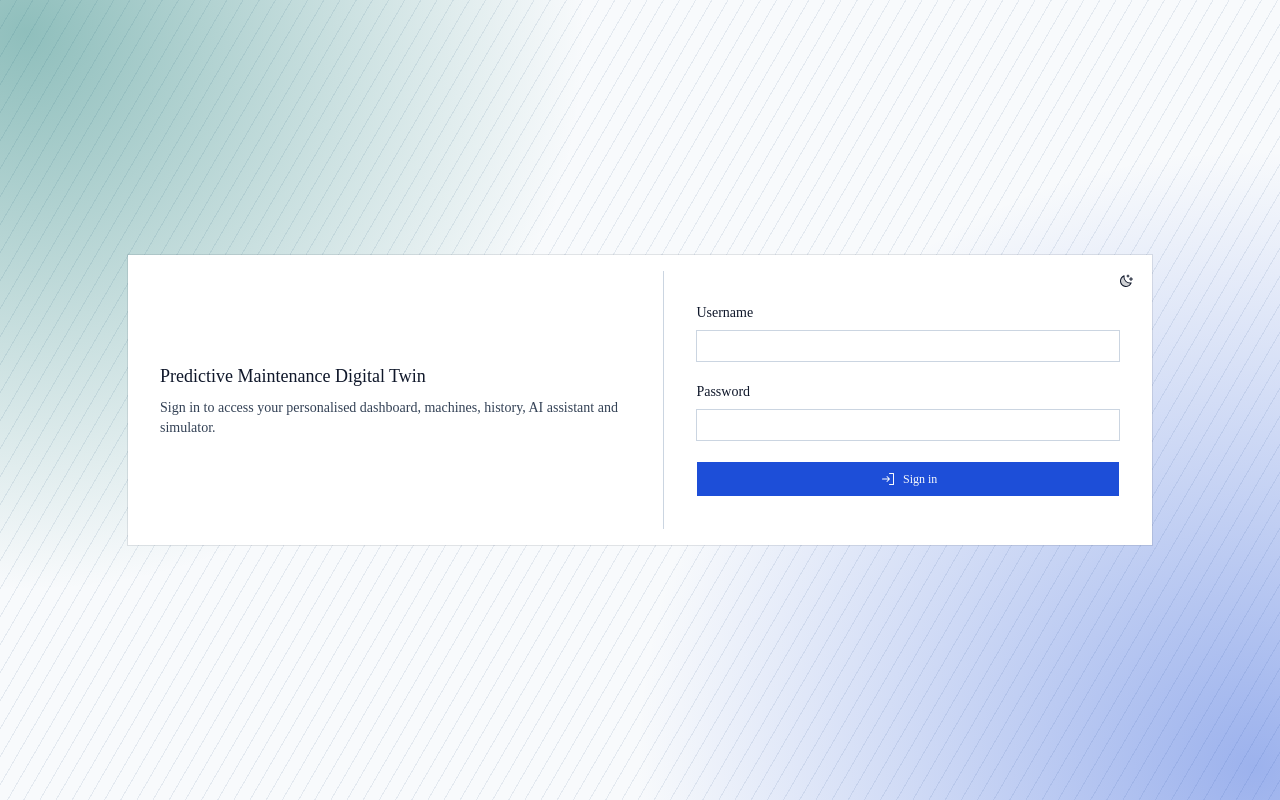
auth forms › explains a deactivated account sign-in rejection
The image size is (1280, 800).
Type "test2@test.com" into the field labelled "Username".
click(908, 346); type("test2@test.com")  # box [696,330,1120,362]
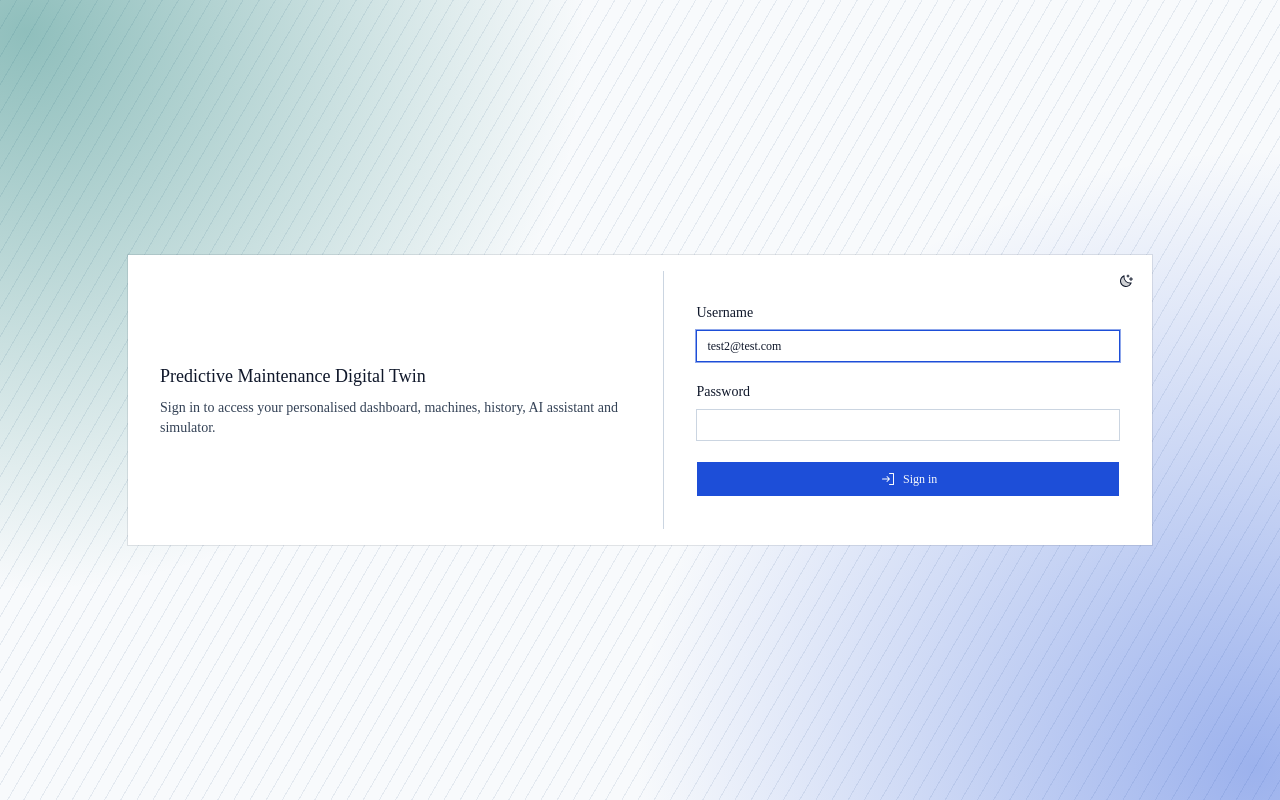
Type "password2" into the password field labelled "Password".
click(908, 425); type("password2")  # box [696,409,1120,441]
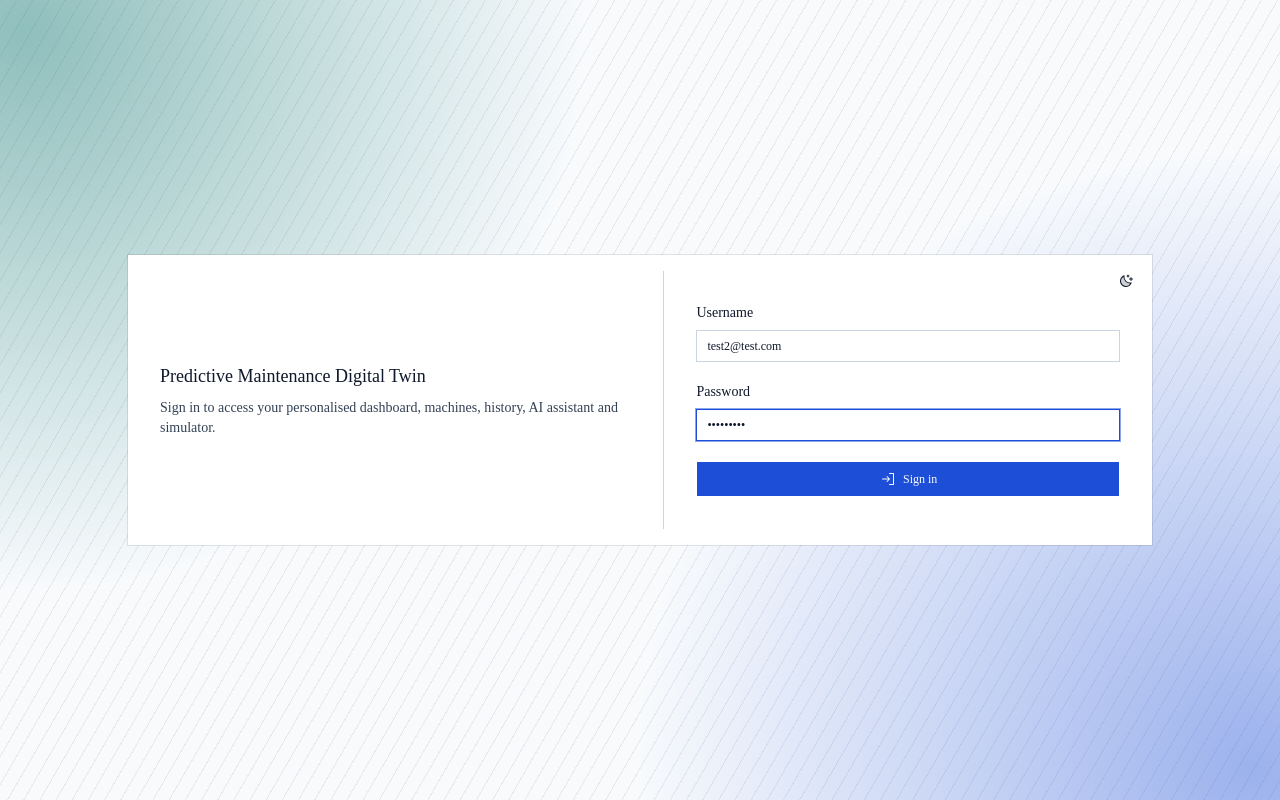
Click the button "Sign in".
click(908, 479)  # box [696,461,1120,497]
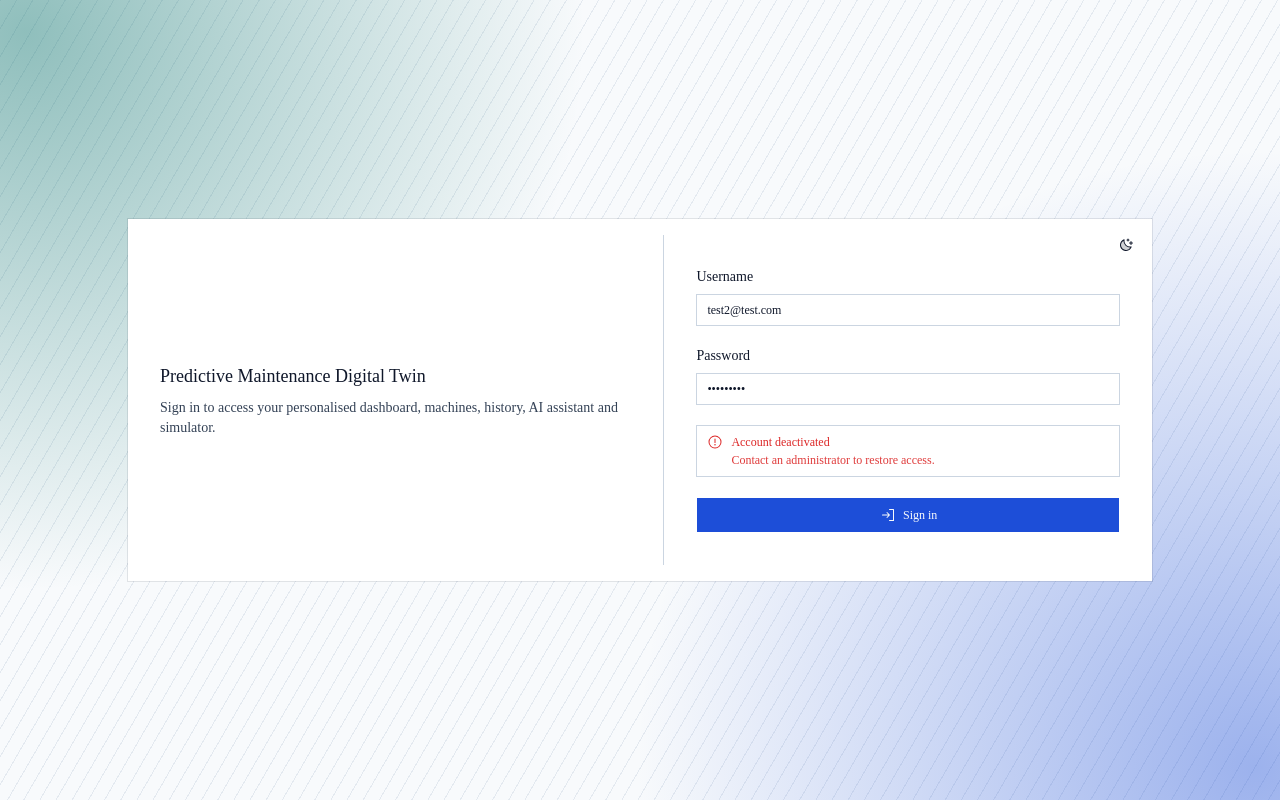
Now the text "Account deactivated" is shown, box [731,435,830,449]
Now the text "Contact an administrator to restore access." is shown, box [731,453,935,467]
